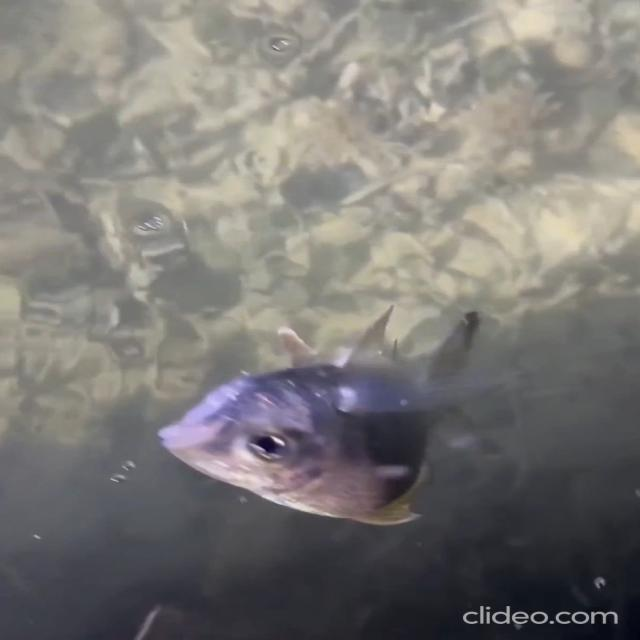fish: (152, 293, 505, 535)
